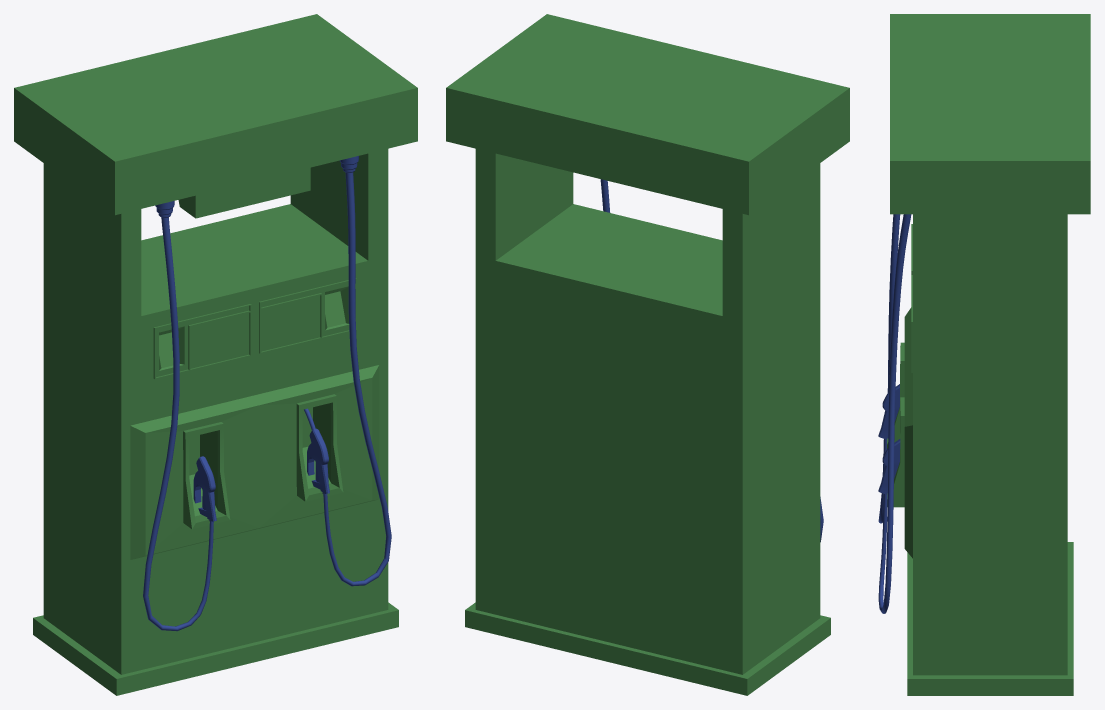
File: newGasolina.fbx
3 views of the same model, side by side, from view 1: azimuth 30°, elevation 25°; view 2: azimuth 150°, elevation 25°; view 3: azimuth 270°, elevation 25° (orthographic).
Parts seen in each view (by area): view 1: pCube1, polySurface1, pPlane3 (×2); view 2: pCube1; view 3: pCube1, polySurface1, pPlane3 (×2).
Boxes of the visible parts, x1=… form: pCube1: x1=14, y1=14, x2=417, y2=695; polySurface1: x1=143, y1=172, x2=391, y2=631; pPlane3 (×2): x1=193, y1=428, x2=329, y2=521; pCube1: x1=446, y1=14, x2=849, y2=695; pCube1: x1=887, y1=14, x2=1090, y2=695; polySurface1: x1=878, y1=214, x2=911, y2=613; pPlane3 (×2): x1=878, y1=384, x2=900, y2=494.
Bounding box in the file's own units: 23.66 × 40.54 × 14.45.
